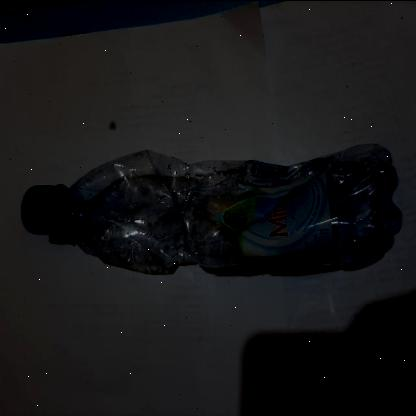Plastic Bottle: (22, 144, 402, 272)
